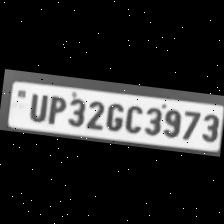2: (84, 95, 106, 129)
3: (141, 102, 164, 136), (197, 110, 221, 142), (64, 92, 86, 126)
7: (178, 106, 201, 140)
9: (159, 103, 182, 137)
C: (121, 100, 144, 133)
G: (101, 98, 124, 130)
P: (43, 92, 66, 124)
U: (24, 88, 48, 120)
